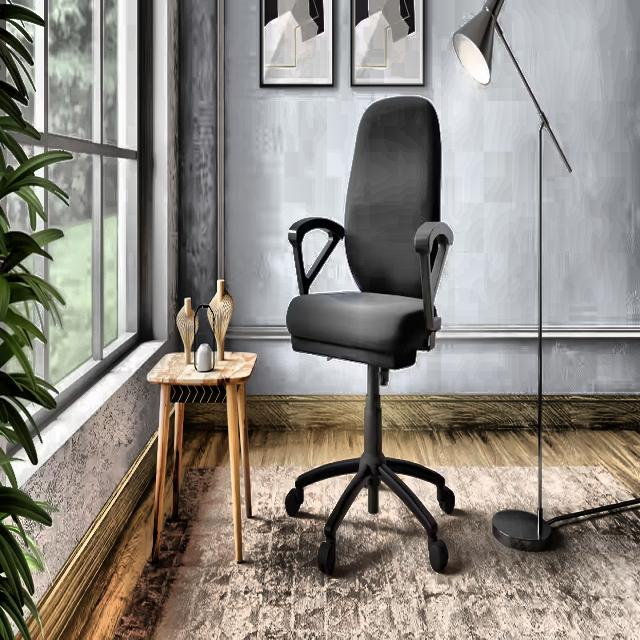cadeira: (278, 91, 456, 576)
